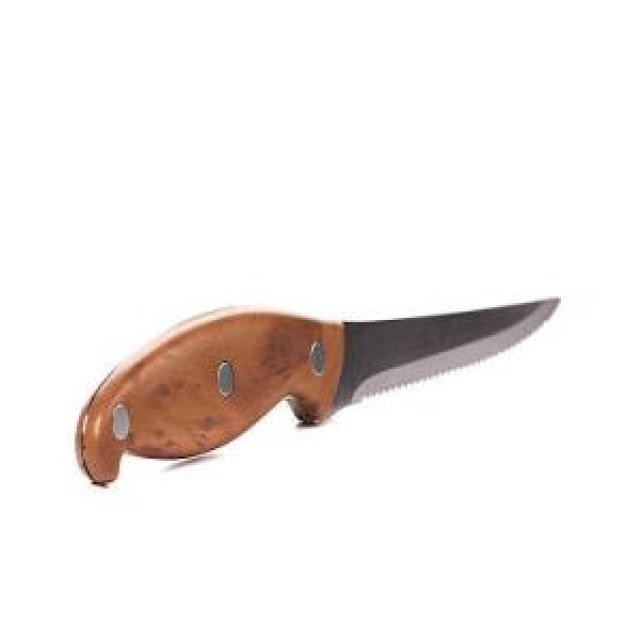knife: (72, 290, 566, 488)
